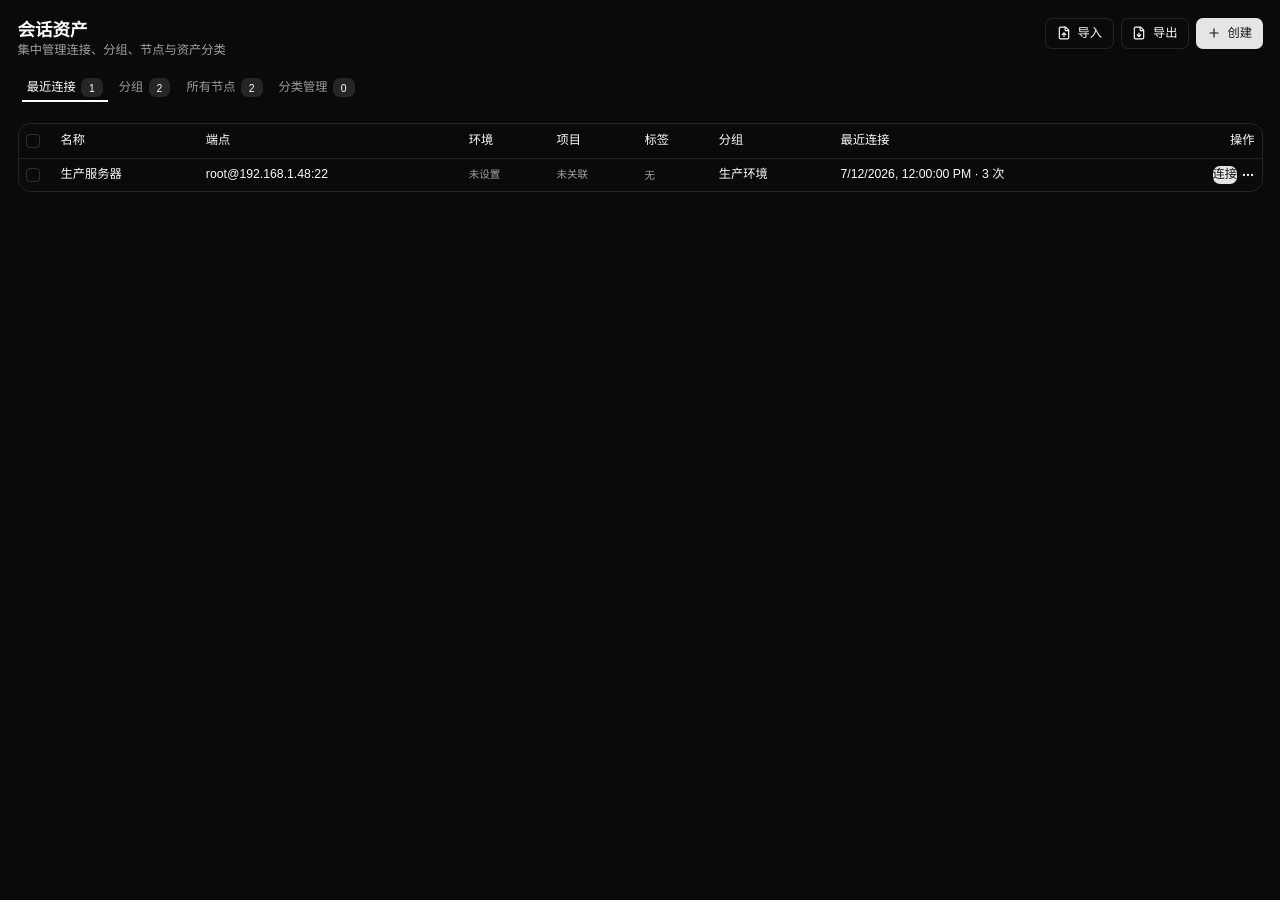
Test case: SessionAssetCenter › selects multiple sessions, confirms batch delete, and shows results
Click the tab "所有节点 2".
click(224, 88)  # box [180,77,269,98]
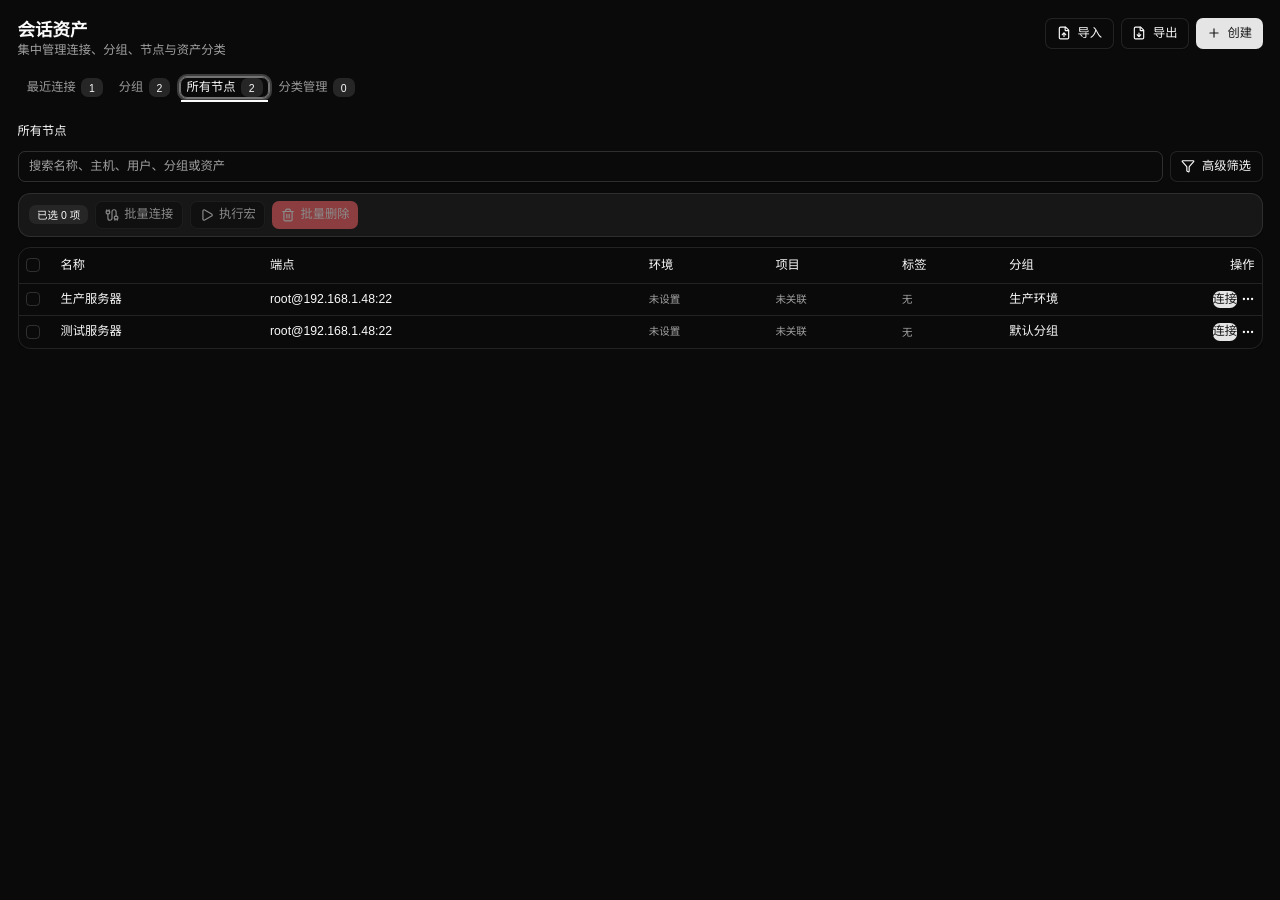
Click the checkbox named "选择 生产服务器".
click(32, 299)  # box [26,292,40,306]
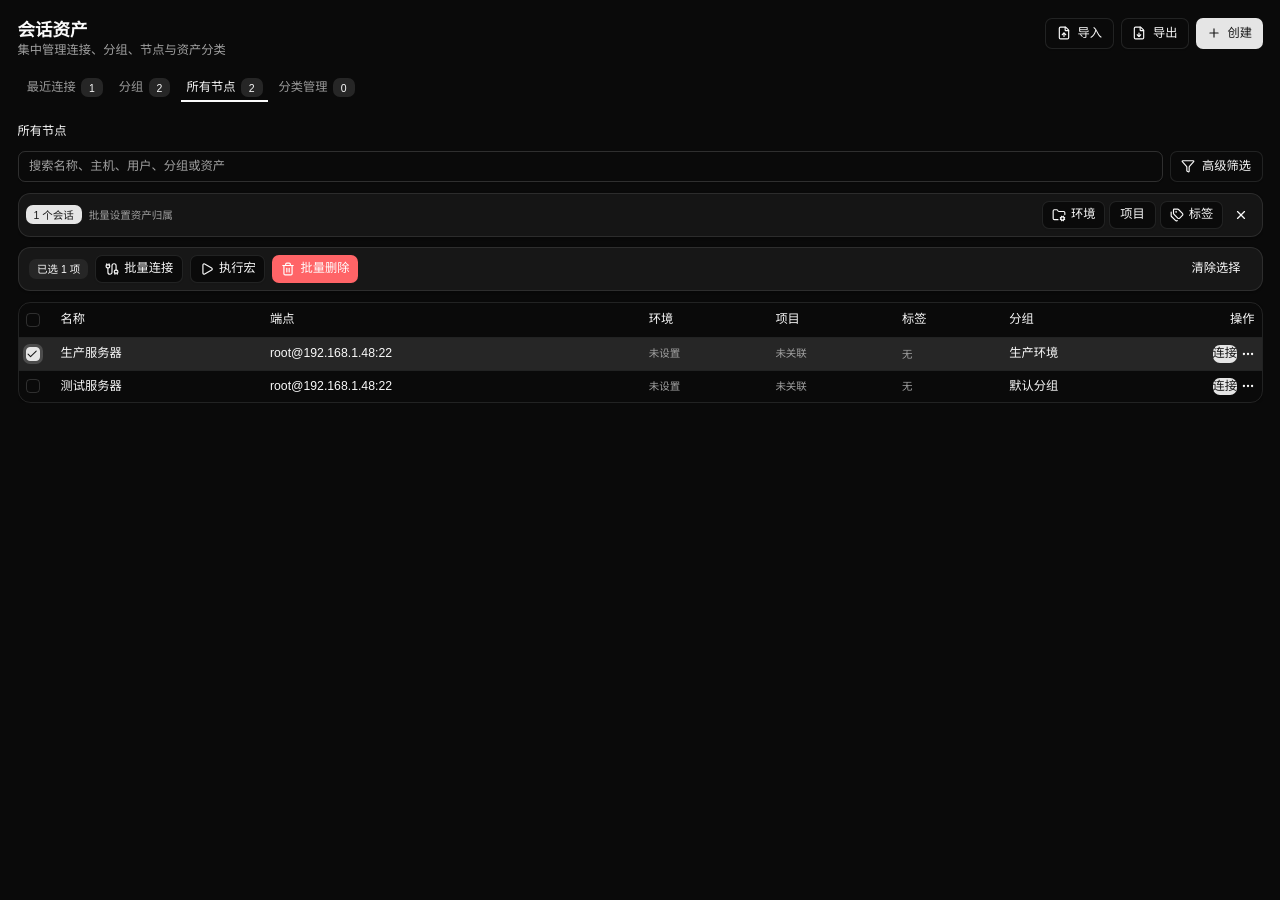
Click the checkbox named "选择 测试服务器".
click(32, 386)  # box [26,379,40,393]
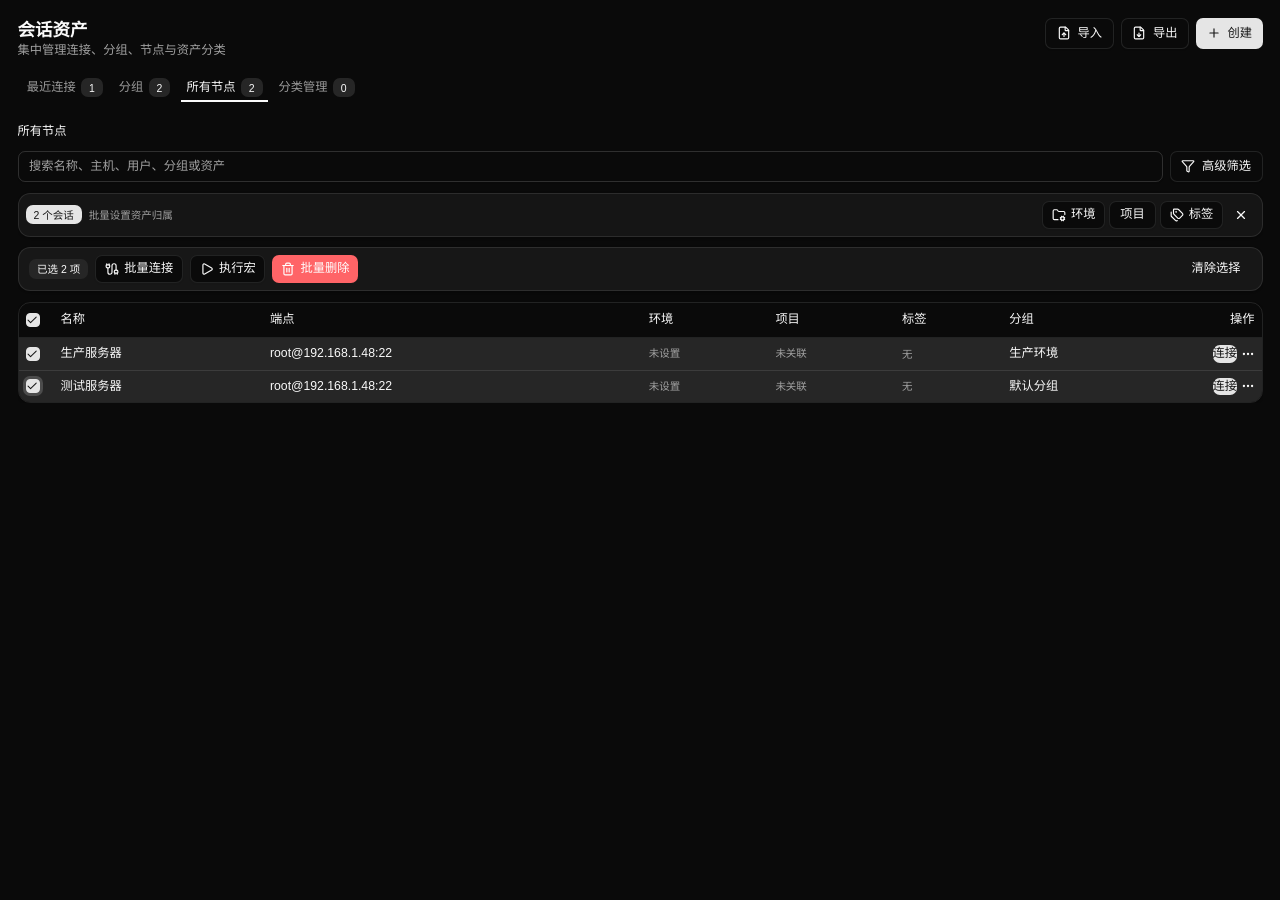
Click the button "批量删除".
click(315, 269)  # box [272,255,358,283]
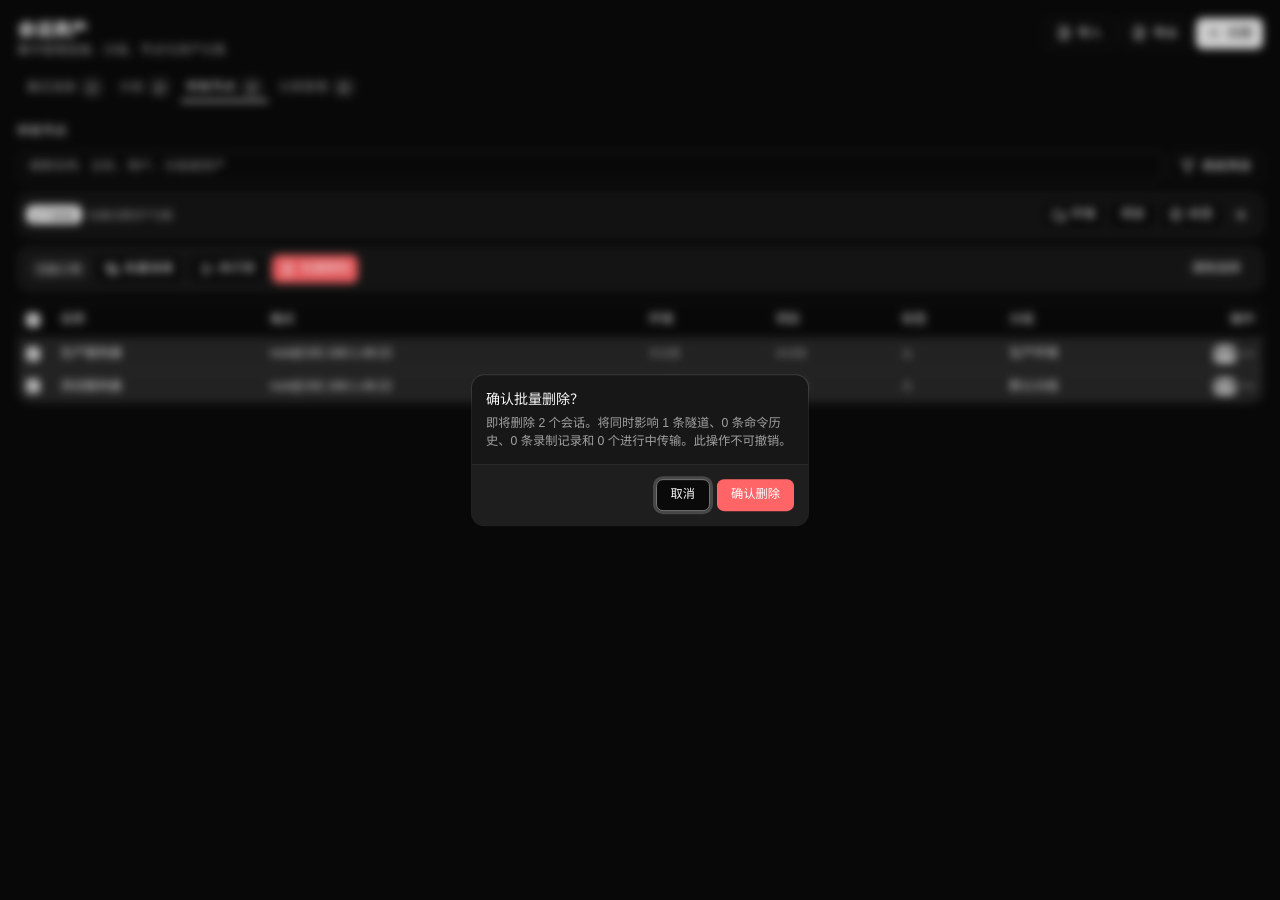
Check: the dialog shows "确认批量删除？", box [486,391,584,407]
Click the button "确认删除".
click(756, 495)  # box [717,479,794,511]
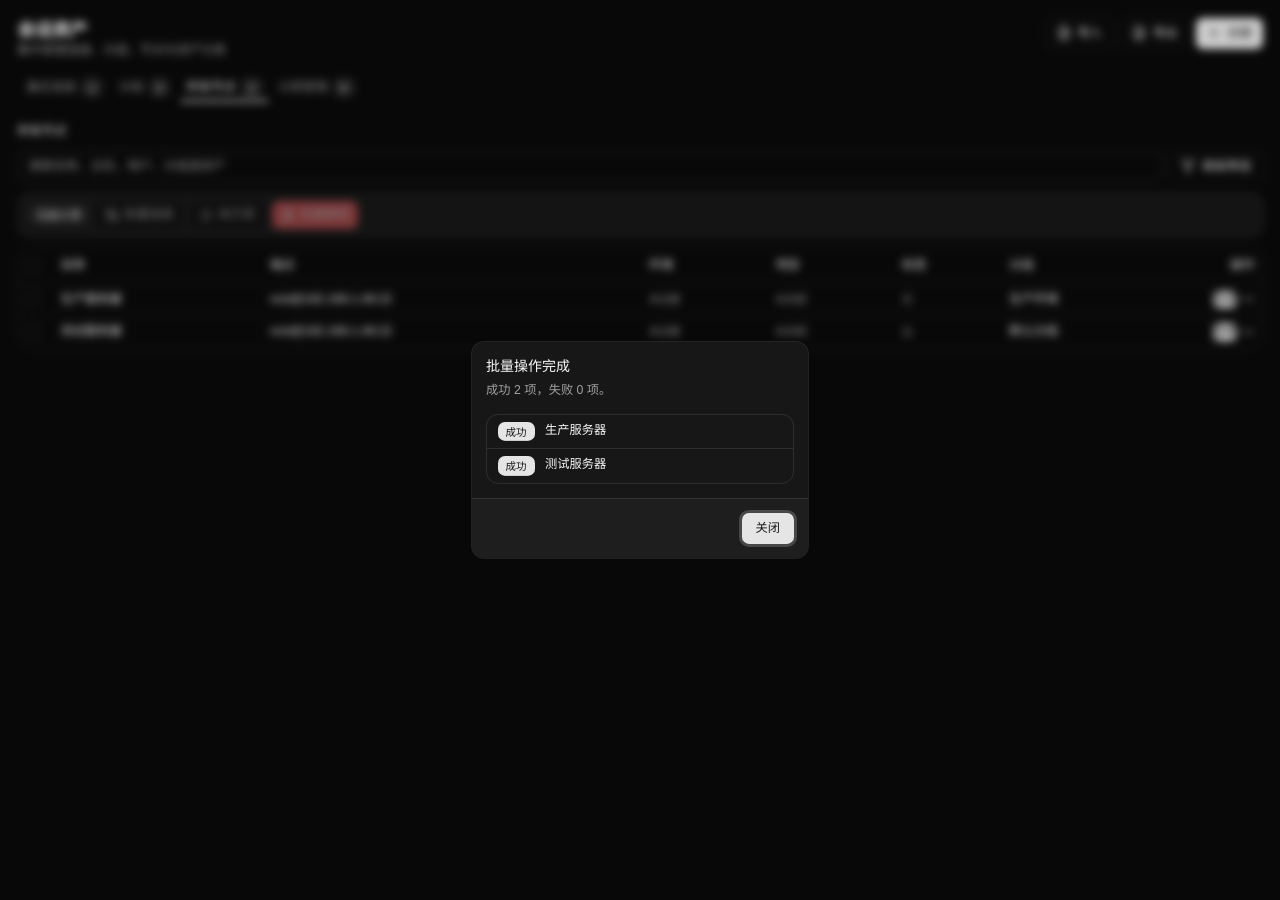
Check: the text "成功 2 项，失败 0 项。" is shown, box [486,382,611,400]
